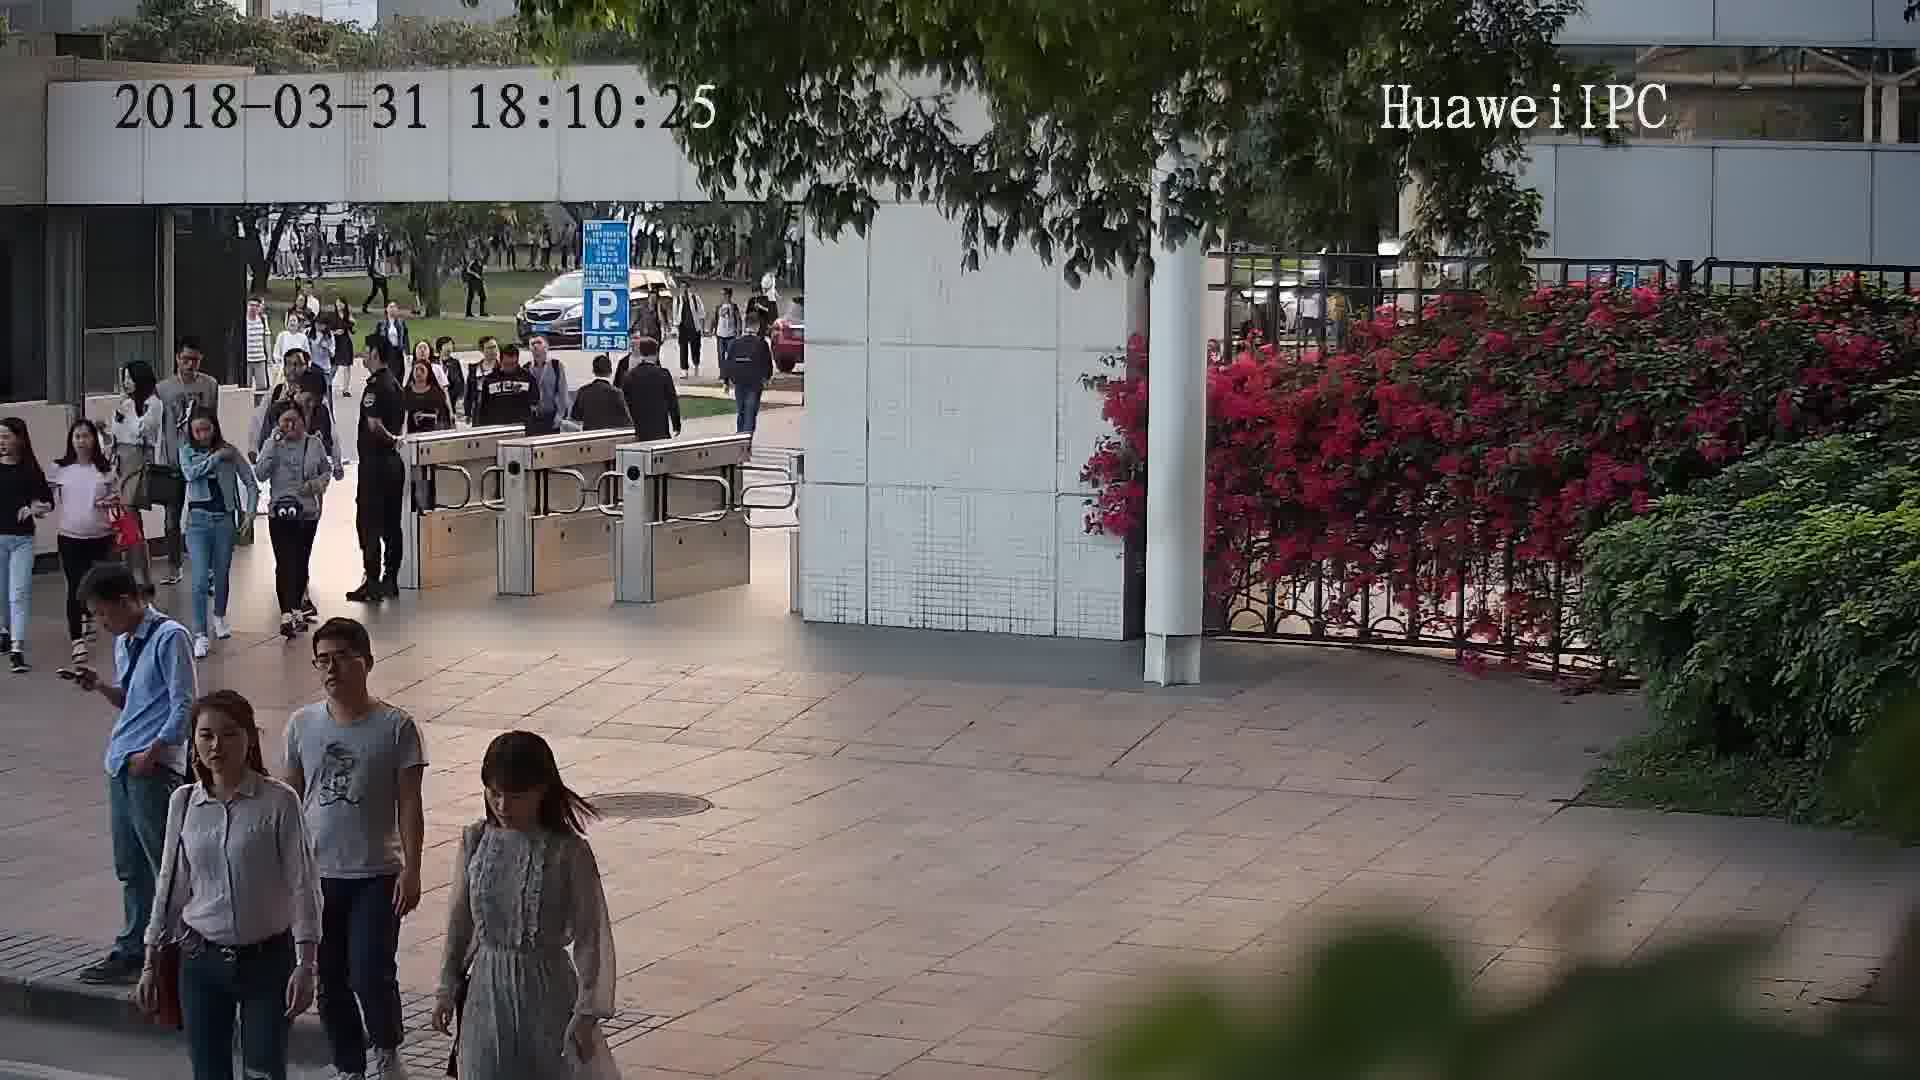face: (308, 636, 372, 700), (190, 709, 253, 773), (485, 775, 539, 829), (84, 595, 123, 635)
person: (459, 727, 595, 870), (168, 686, 304, 827), (287, 614, 415, 748), (87, 564, 190, 662), (59, 415, 115, 486), (181, 402, 245, 463), (165, 335, 220, 398), (266, 401, 328, 454), (281, 369, 335, 428), (1, 413, 46, 484), (118, 355, 166, 419), (264, 343, 313, 396), (364, 336, 403, 396), (629, 334, 676, 383), (488, 339, 535, 387), (400, 354, 446, 402), (577, 353, 624, 400), (525, 333, 568, 380), (729, 309, 772, 353), (471, 331, 507, 382), (430, 332, 466, 381), (376, 296, 410, 336), (277, 312, 313, 350), (247, 296, 275, 334), (306, 310, 336, 343), (331, 293, 361, 326), (288, 290, 316, 322), (644, 277, 670, 308), (716, 282, 740, 310), (681, 278, 703, 306)
